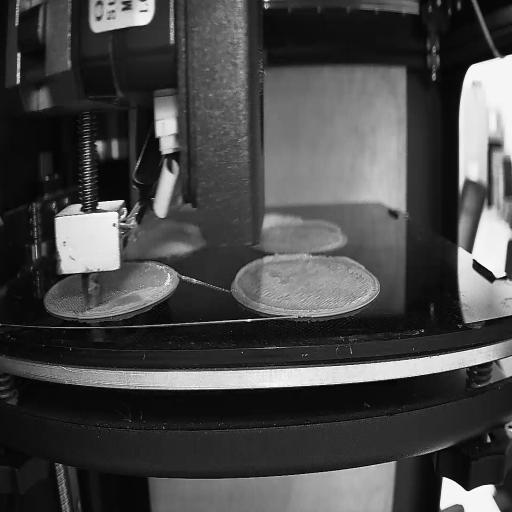over_extrusion: (234, 253, 310, 313), (262, 214, 342, 233), (333, 252, 367, 272)
